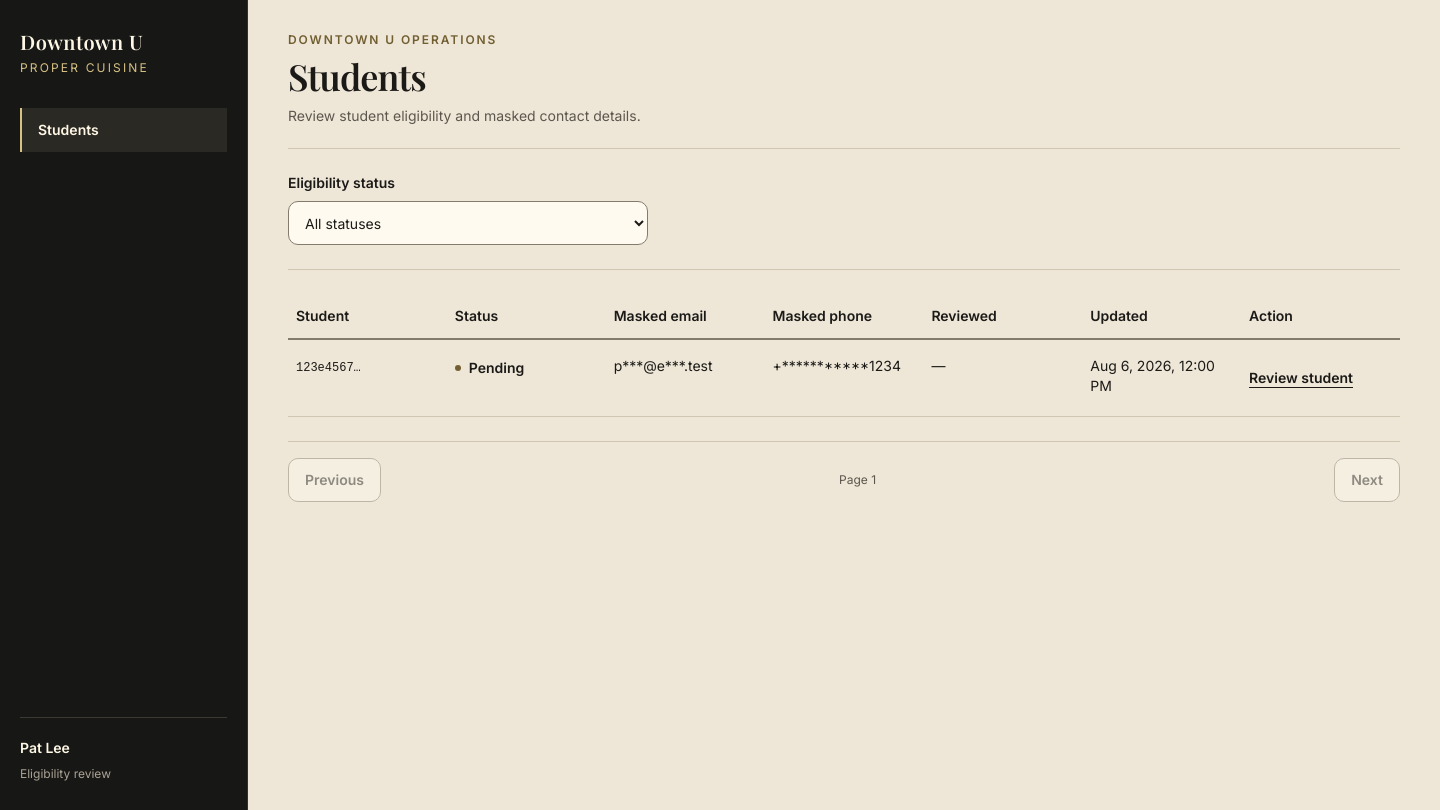
Scenario: eligibility review authorization, routing, and projection › adds only a Review link to reviewer student rows/cards and fresh-fetches the canonical exact detail route
Click the link "Review student" at (1301, 378), box left=1249, top=369, right=1353, bottom=386
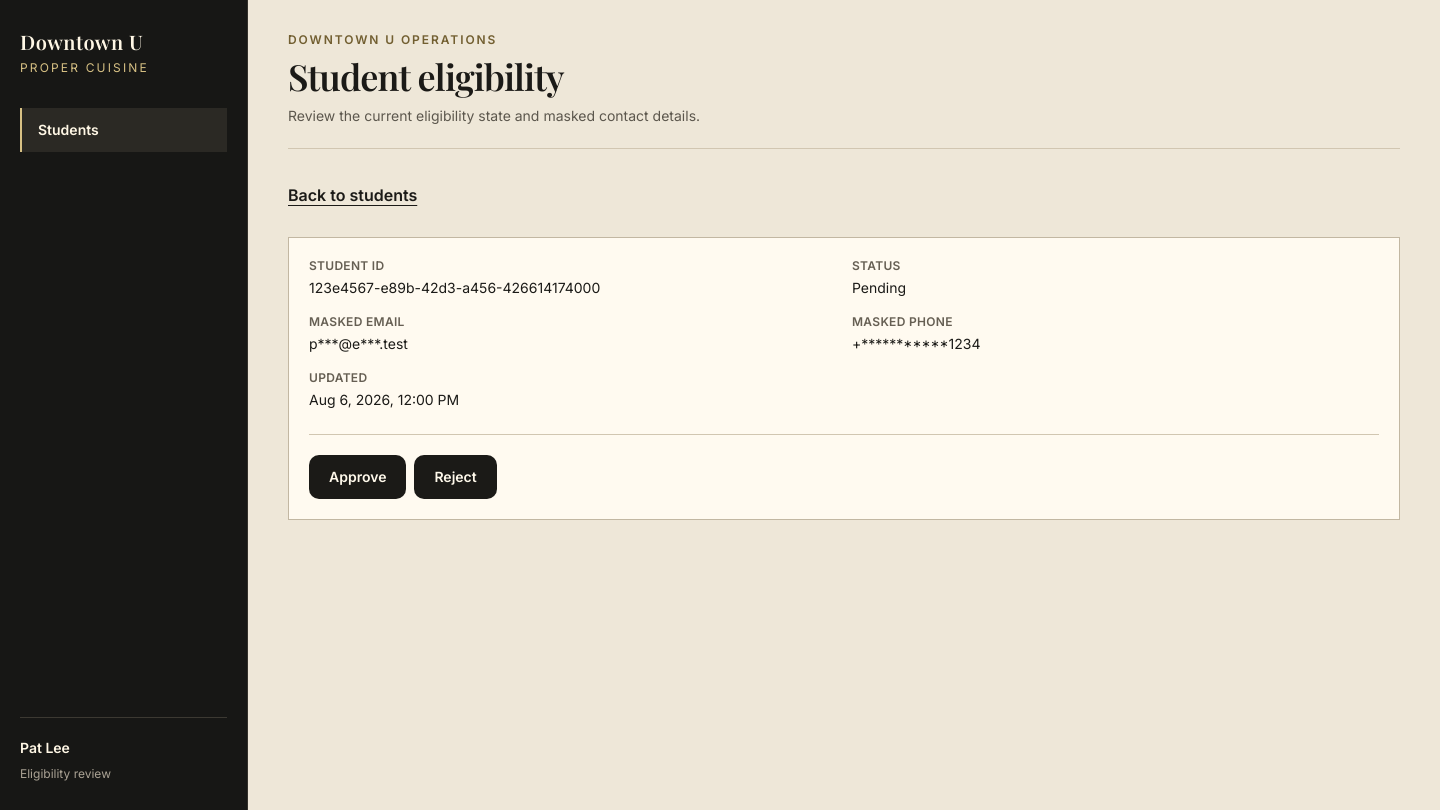
Expected: the text "Pending" is shown, left=852, top=279, right=906, bottom=296
Now the text "123e4567-e89b-42d3-a456-426614174000" is shown, box left=309, top=279, right=600, bottom=296
